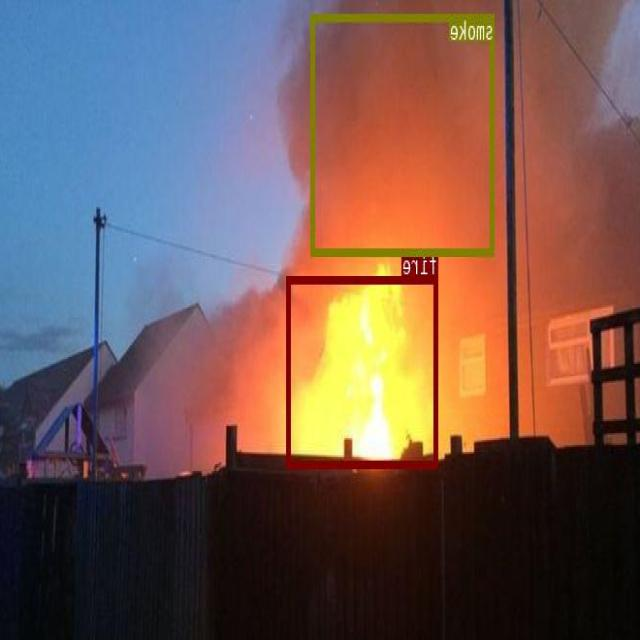fire: (287, 275, 439, 466)
smoke: (312, 12, 495, 255)
